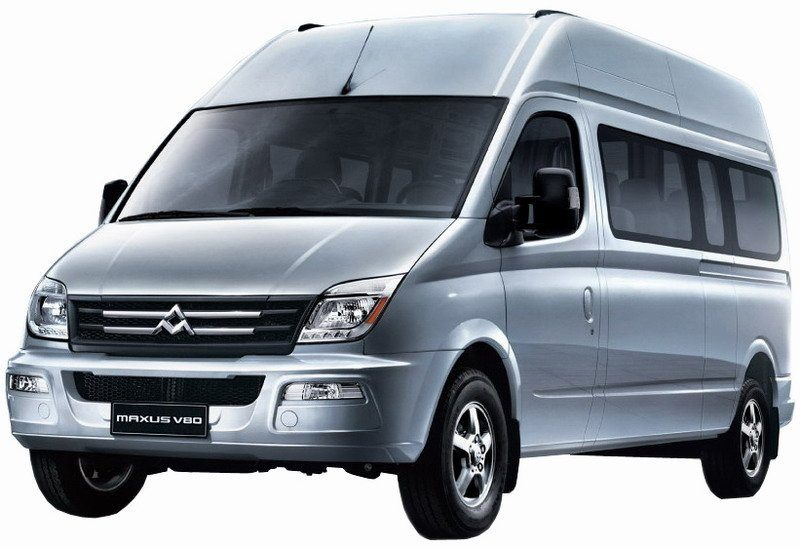van: (8, 11, 795, 537)
